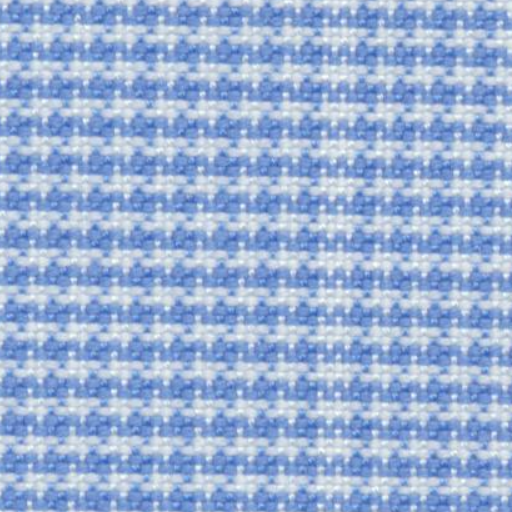TuoSha: (301, 22, 386, 482)
